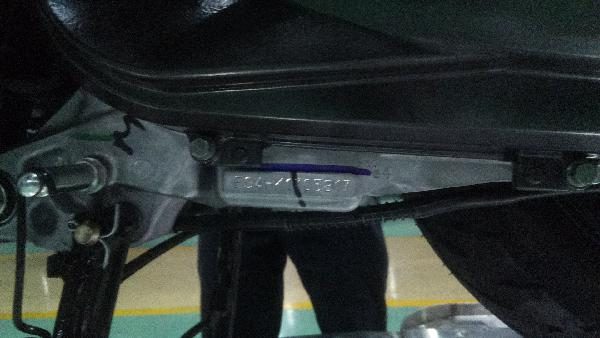box: (233, 174, 352, 193)
